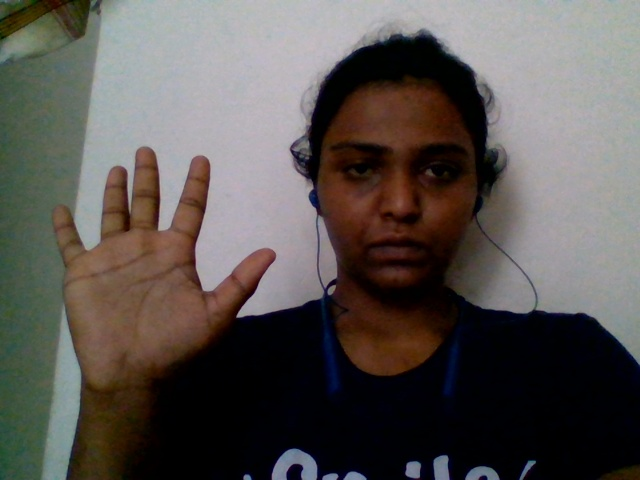Hello: (18, 126, 291, 379)
